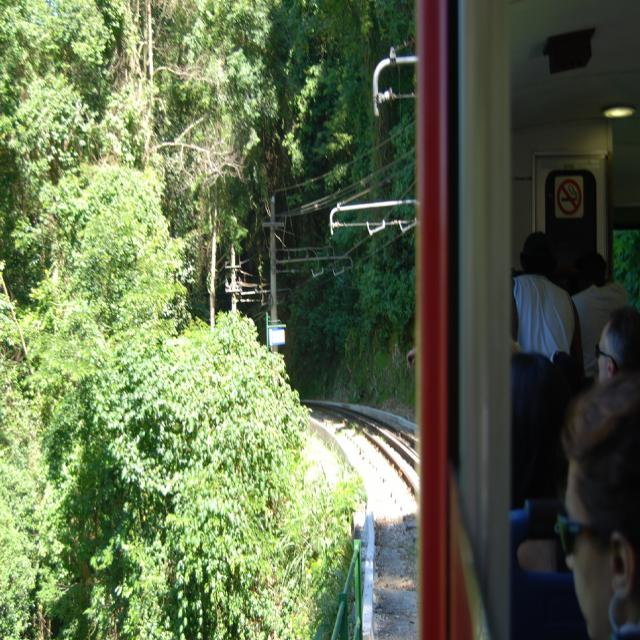Glasses: (554, 511, 620, 555), (597, 344, 622, 385)
